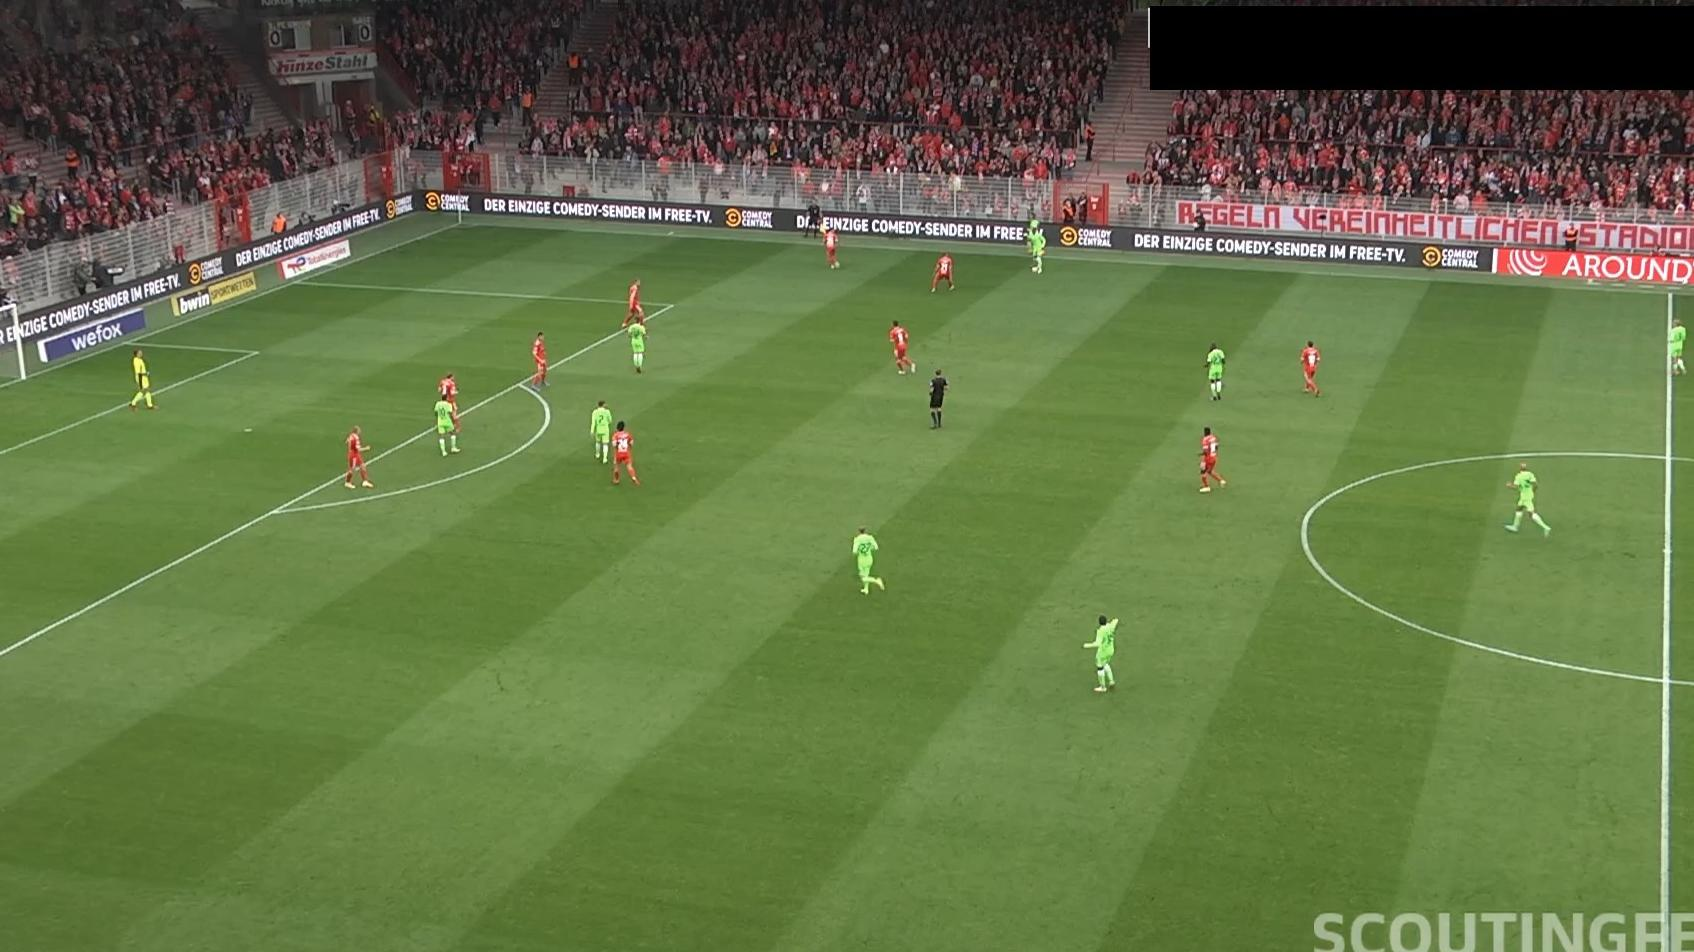ball: (1030, 264, 1039, 275)
